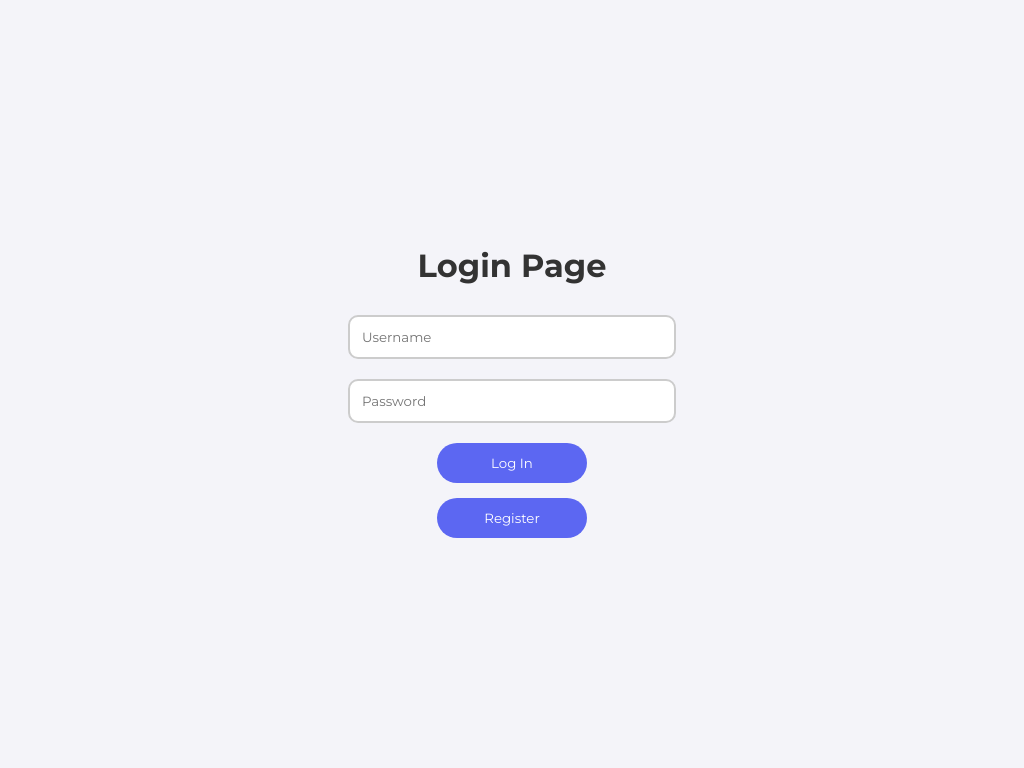
Scenario: profile page tests › shows statistics modal
The width and height of the screenshot is (1024, 768).
In the field with placeholder "Username": (512, 337) left=348, top=315, right=676, bottom=359, type "validuser"
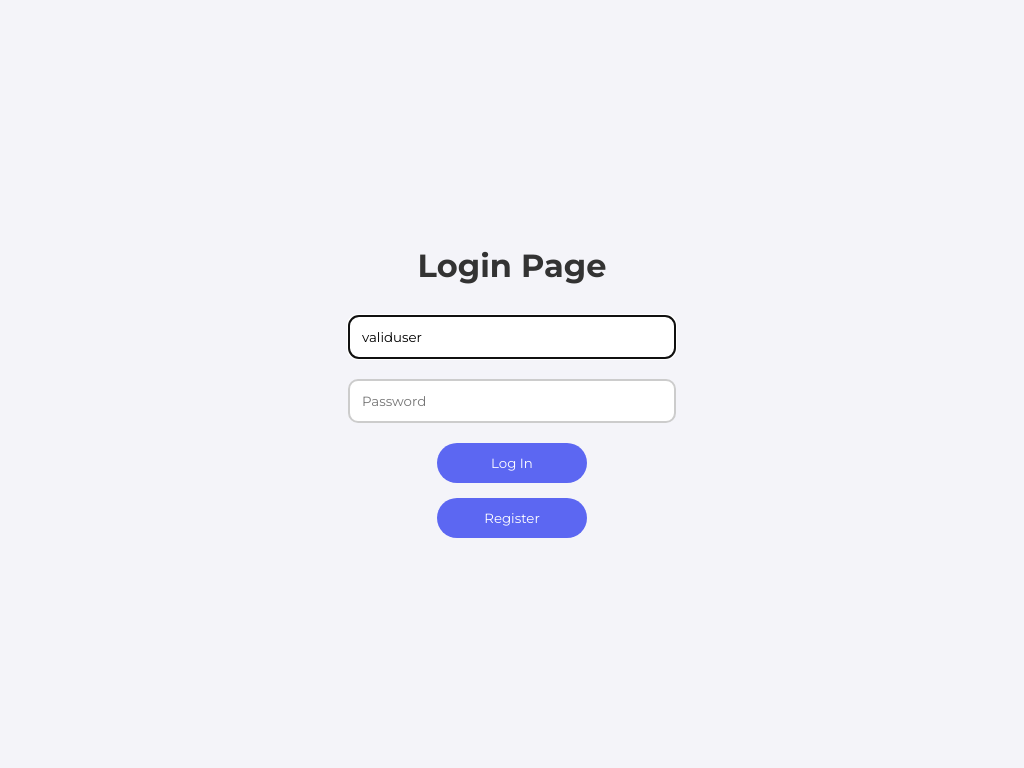
In the password field with placeholder "Password": (512, 401) left=348, top=379, right=676, bottom=423, type "validpass"
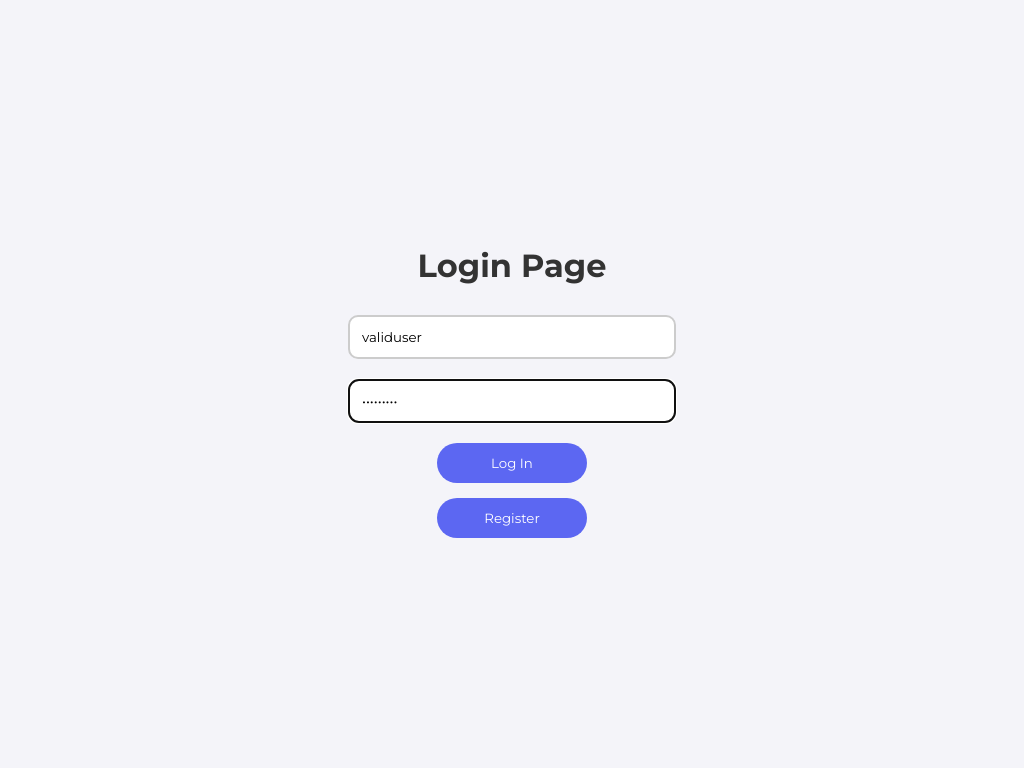
Click the button "Log In": (512, 463) left=437, top=443, right=587, bottom=483
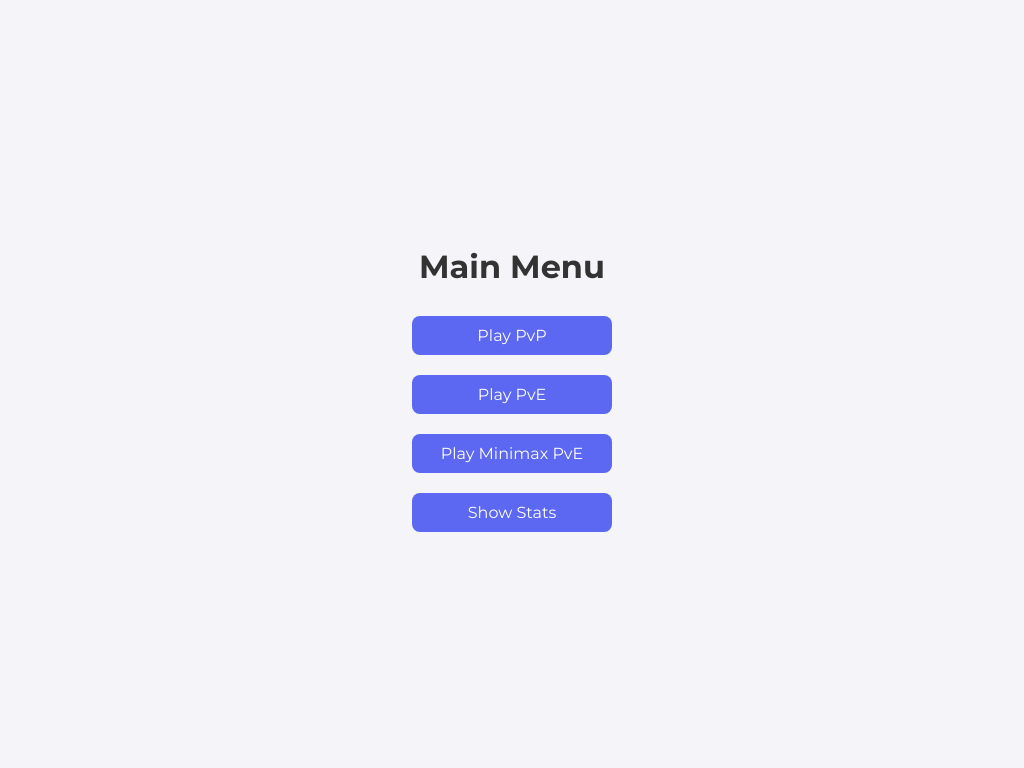
Click the button "Show Stats": (512, 513) left=412, top=493, right=612, bottom=532
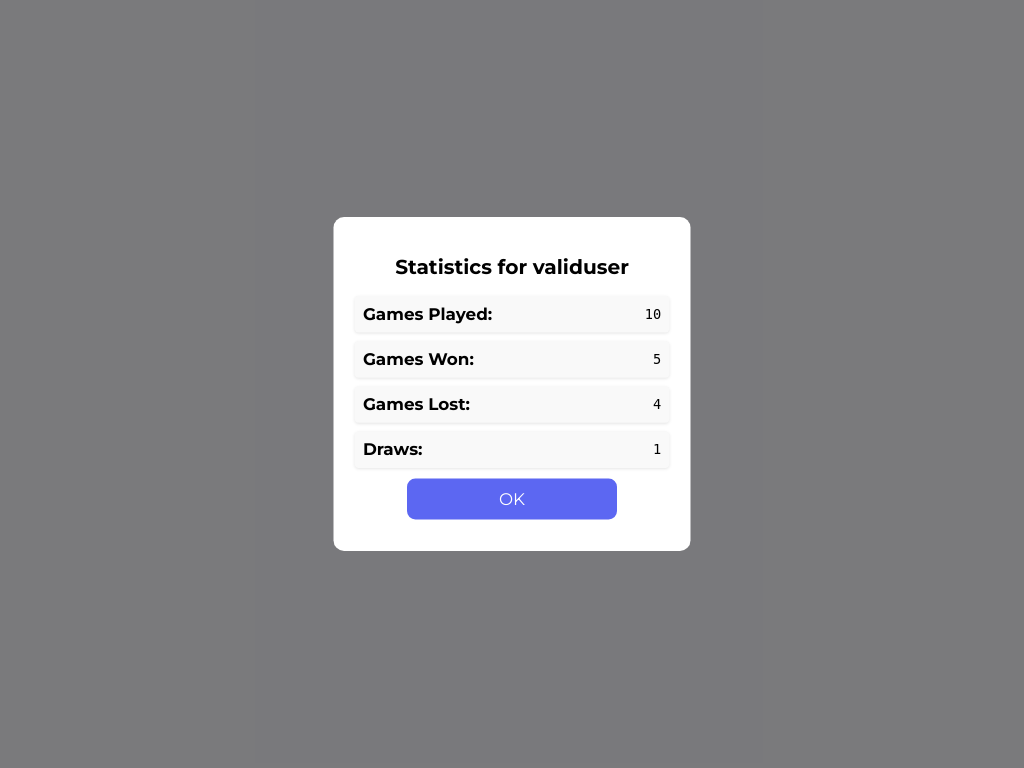
Expected: the element with class "modal" is shown, left=334, top=217, right=691, bottom=552
Expected: the heading with class "statistics-title" reads "Statistics for validuser", left=395, top=254, right=629, bottom=279
Expected: the text with class "statistic-value" reads "10", left=645, top=307, right=661, bottom=323
